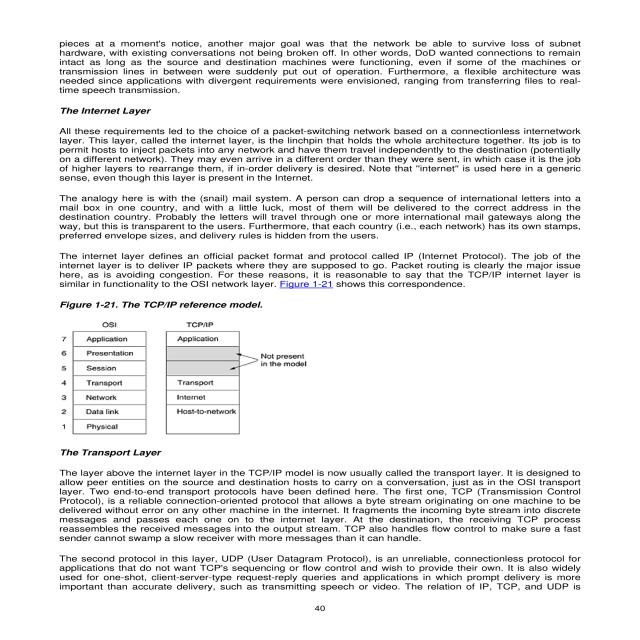diagram: (40, 300, 344, 438)
